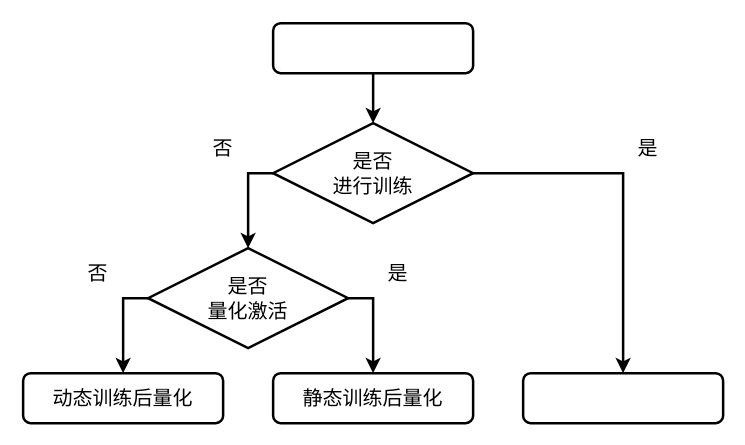
The diagram is 745 pixels wide and 445 high, and some of its shapes have lost their labels. Here are the shapes that lost their labels. From the top down, the centre of each, then its label:
pixel 372 47: 预训练模型
pixel 622 397: 量化感知训练
